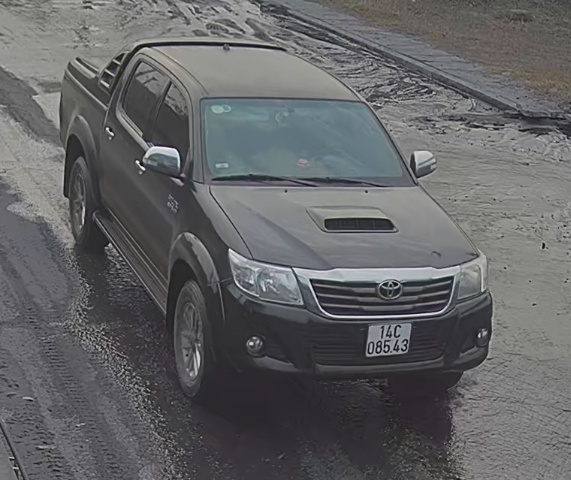vehicle plate: (361, 313, 418, 361)
